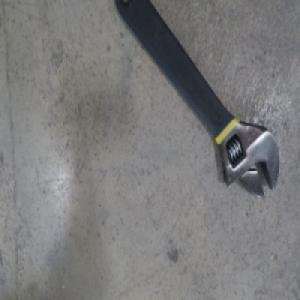AdjustableWrench: (118, 0, 281, 201)
